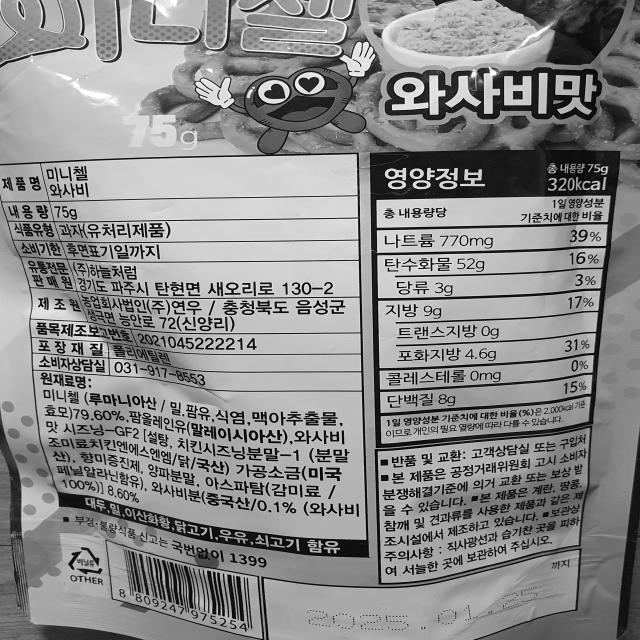Nutrition Label: (364, 146, 624, 452)
